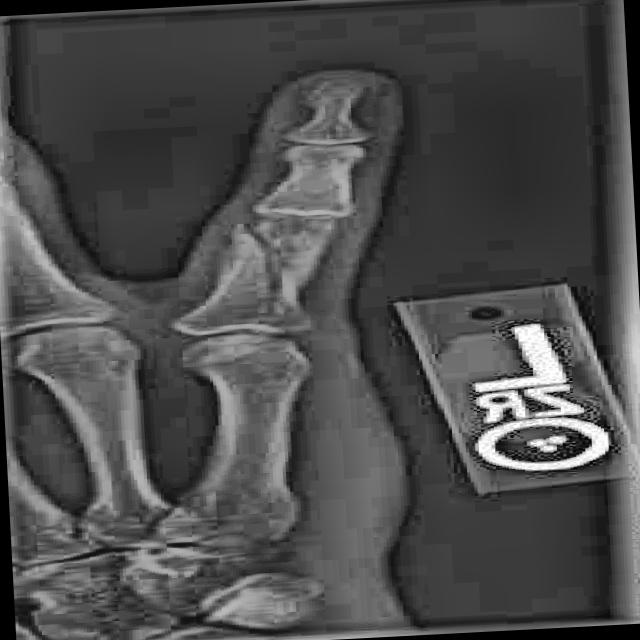fingers positive: (205, 208, 355, 324)
